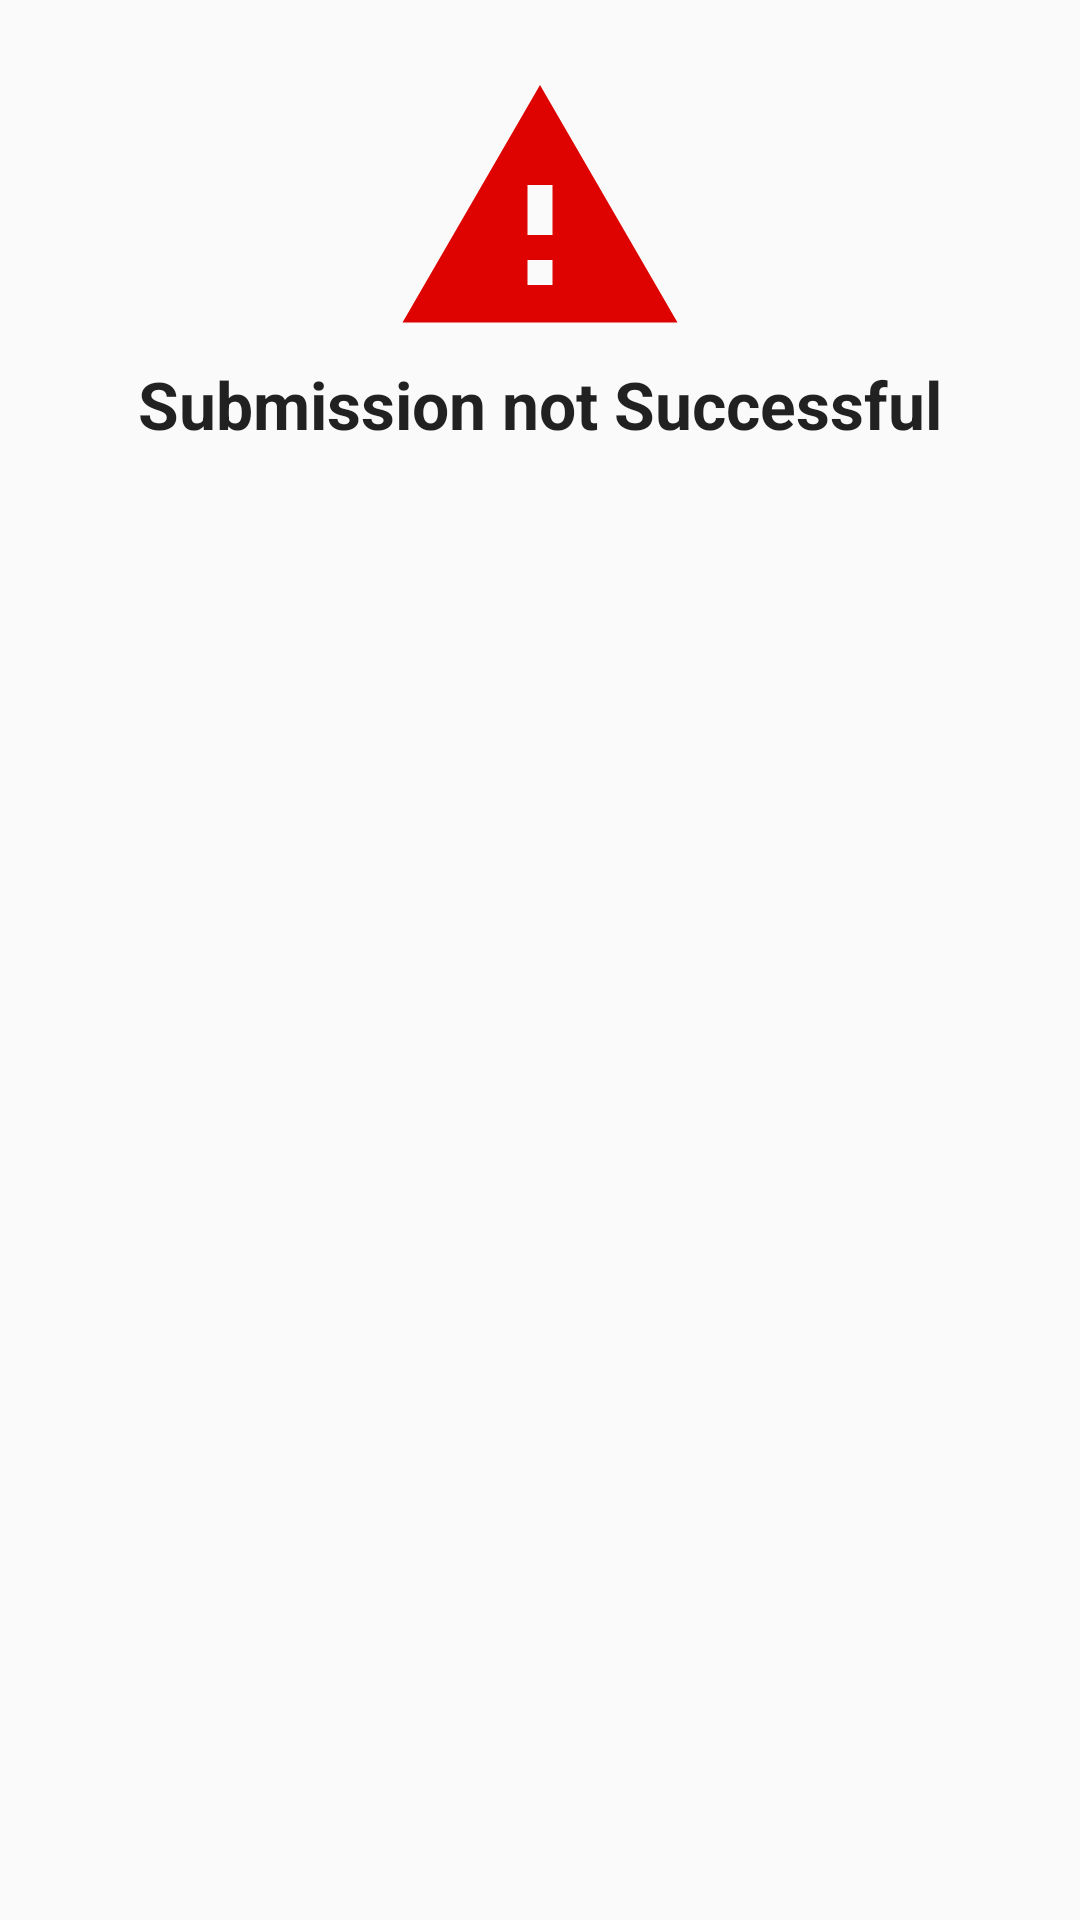

Icon click points for this 1080px×1920px phone screenshot, format point (x, y):
warning: point (540, 204)
